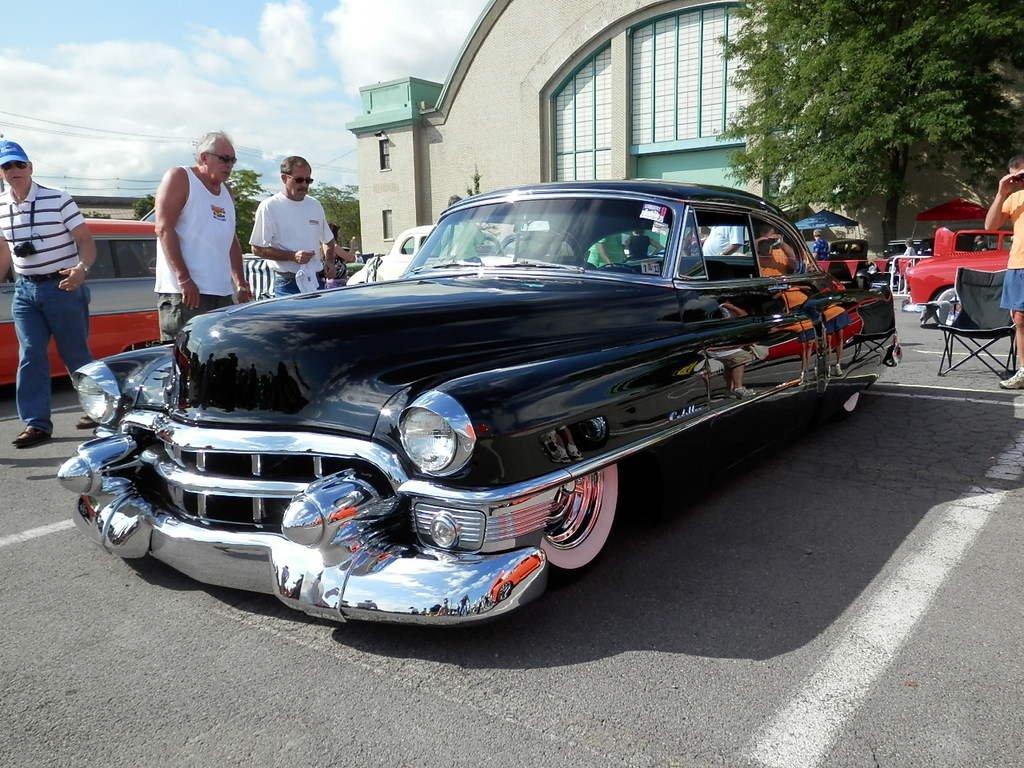Car: (63, 185, 906, 642), (0, 217, 163, 387), (906, 231, 1016, 326)
